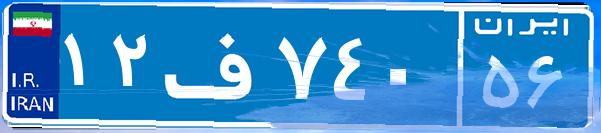0: (385, 28, 445, 110)
1: (57, 26, 110, 107)
2: (110, 28, 158, 105)
4: (330, 28, 385, 110)
5: (475, 38, 525, 113)
6: (525, 38, 570, 115)
7: (273, 28, 330, 110)
ف: (158, 15, 273, 115)
